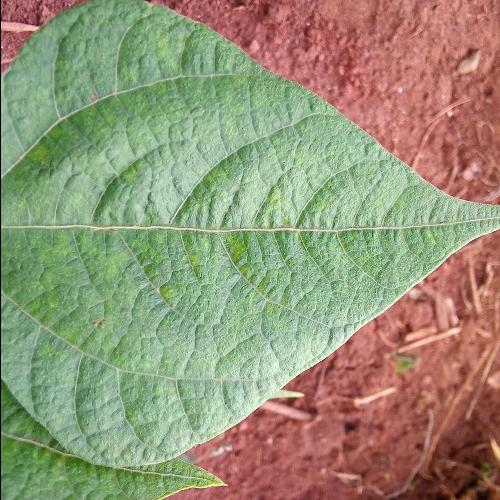hawar: (25, 55, 360, 410)
